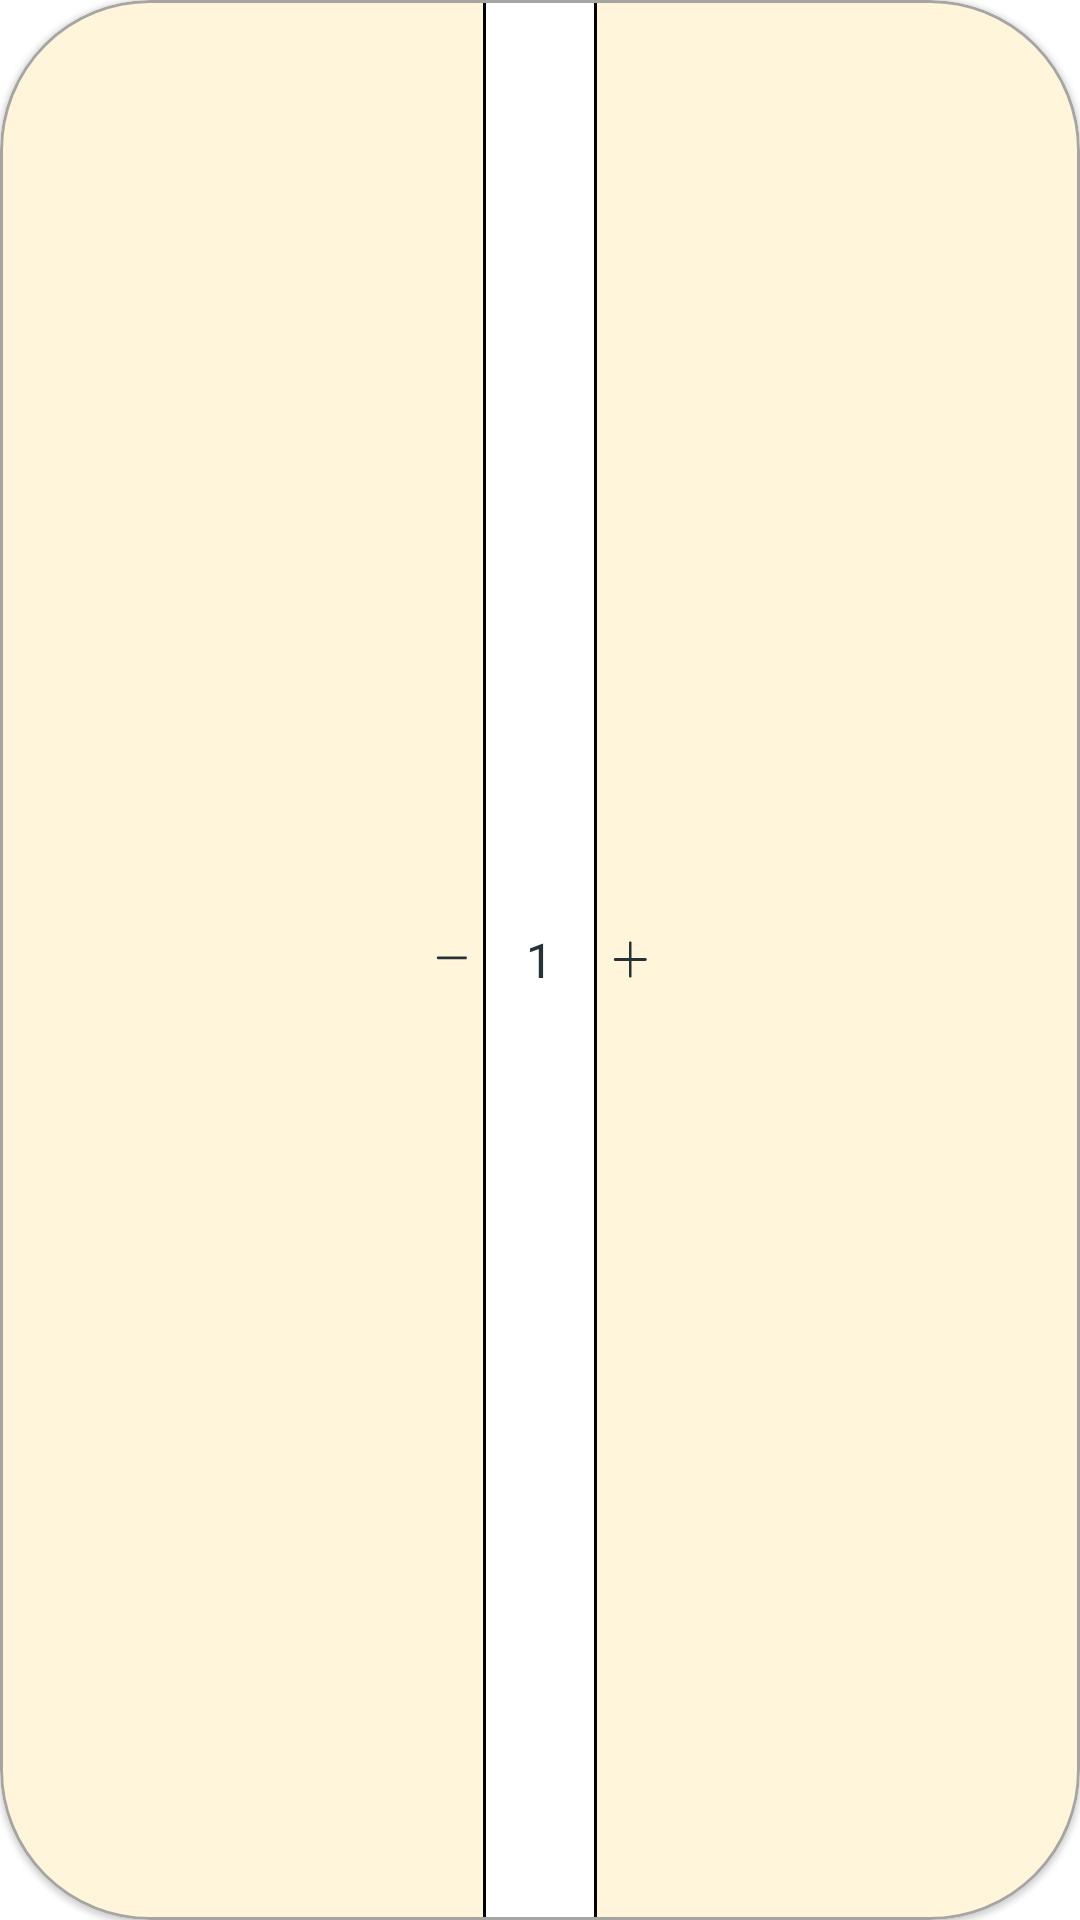

Named icons in this screenshot (1080x1920) and their centers, (x=x, y=y):
add: (x=630, y=959)
